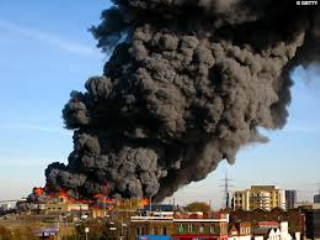smoke: (49, 5, 307, 205)
